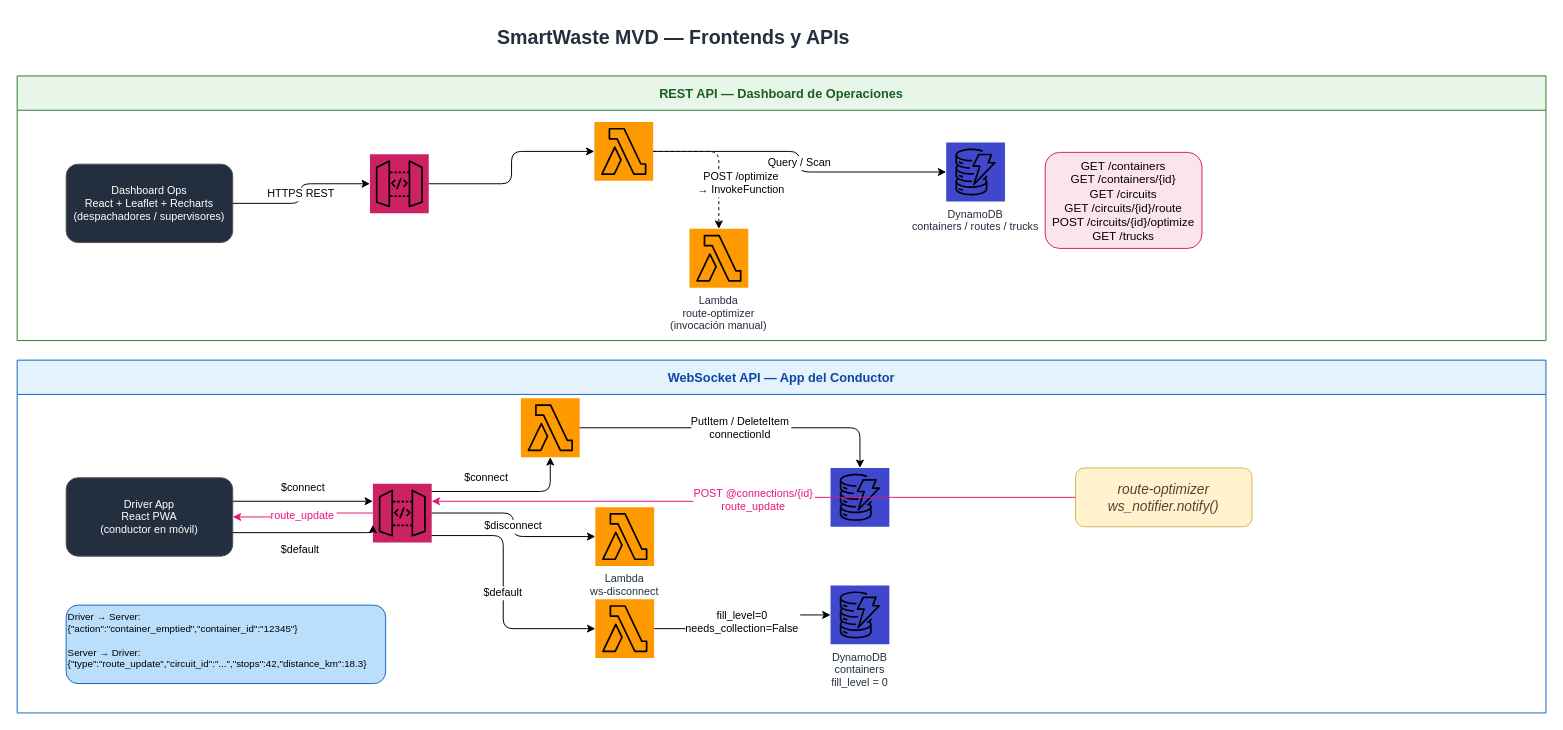
Some shapes in this 1563 by 730 pixel diagram are drawn without their labels. The centre of each missing label's shape, as x and y in pixels:
"API Gateway REST https://0h618z1lmi... /dev" belongs at (398,183).
"API Gateway WS wss://fxh7tp6mve... /dev" belongs at (401,512).
"DynamoDB connections {connectionId, truckId, circuitId}" belongs at (859,496).
"Lambda api (DynamoDB reads)" belongs at (623,151).
"Lambda ws-connect" belongs at (549,427).
"Lambda ws-message" belongs at (624,628).
